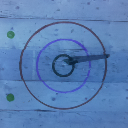Axe Tip: (63, 59, 76, 61)
